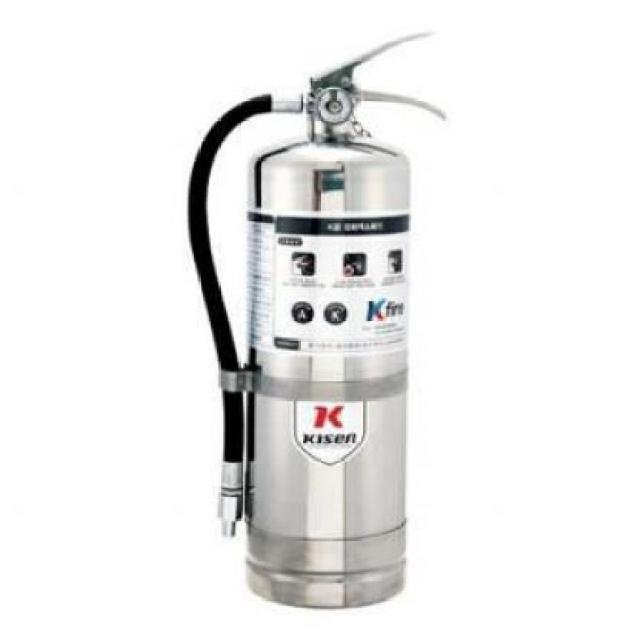fire extinguisher: (186, 29, 446, 611)
